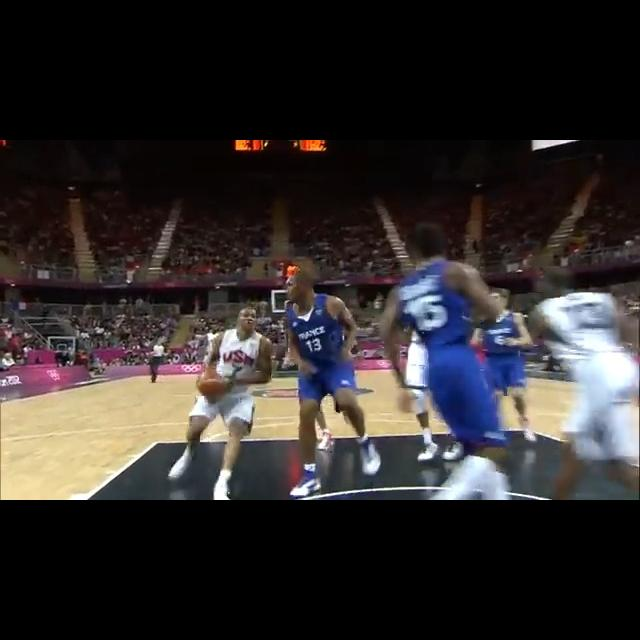basketball: (199, 369, 227, 399)
